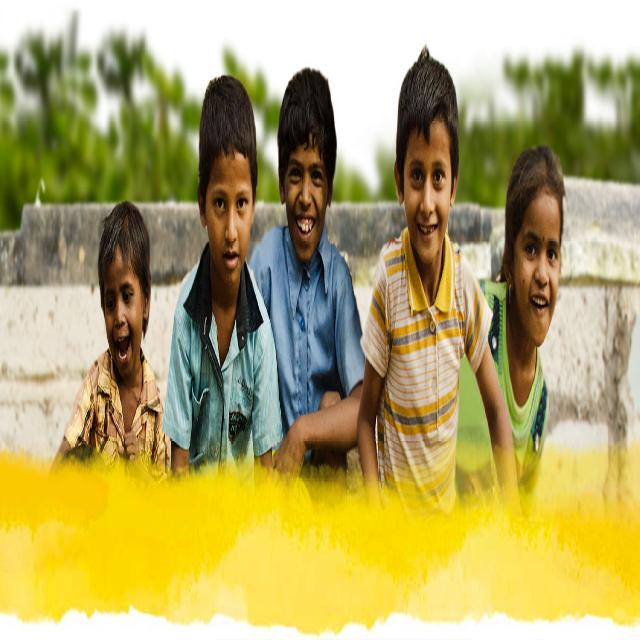child: (357, 53, 517, 491), (250, 67, 367, 476), (162, 71, 278, 472), (466, 149, 565, 516), (44, 201, 165, 472)
